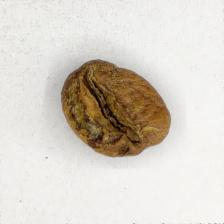NG: (66, 66, 134, 155)
